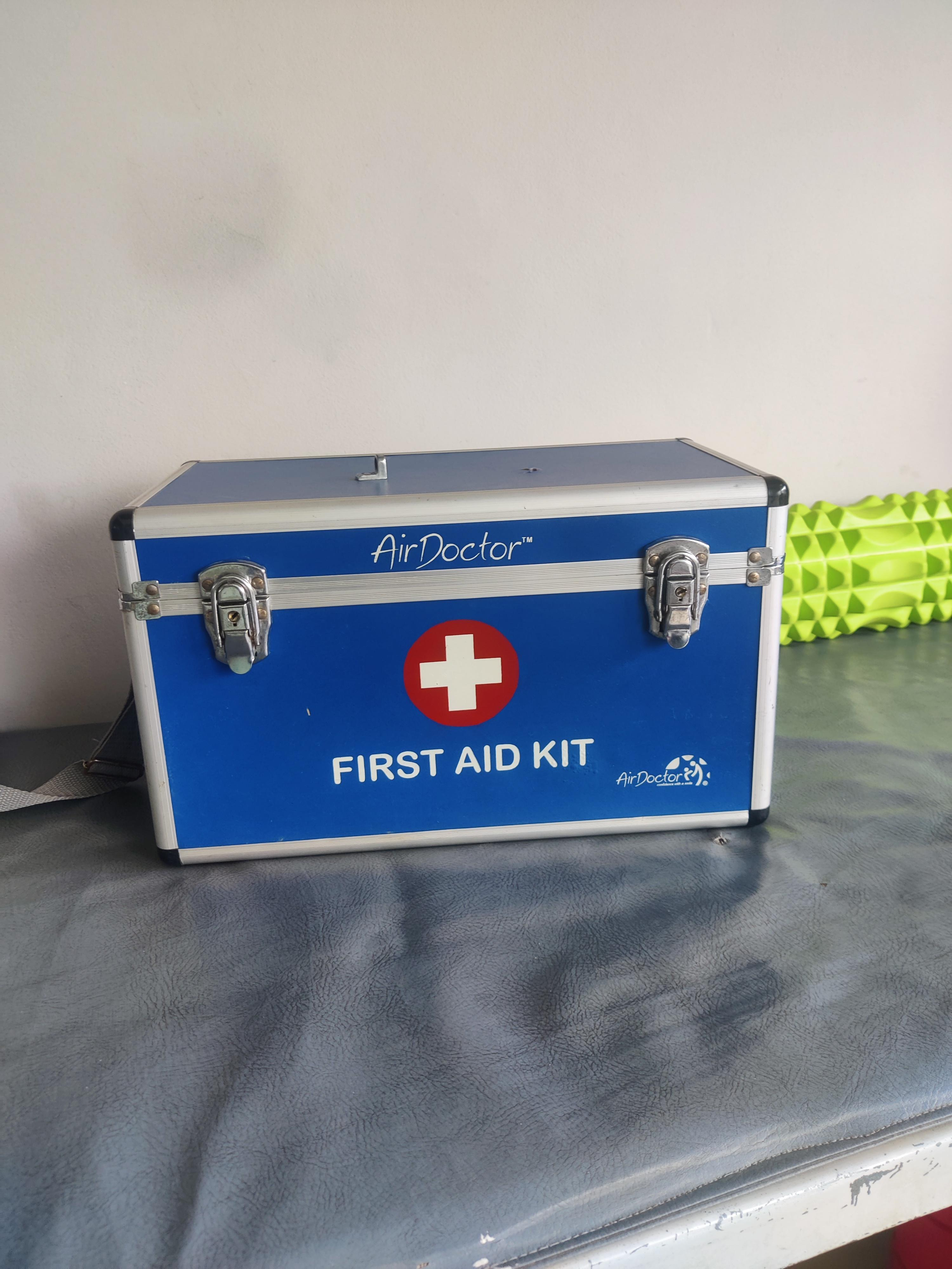FirstAidBox: (94, 404, 829, 899)
